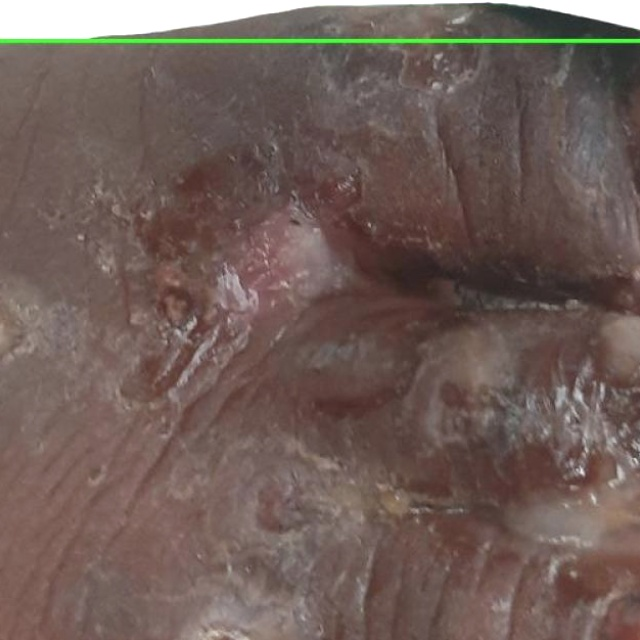Eczema: (0, 0, 639, 40)
